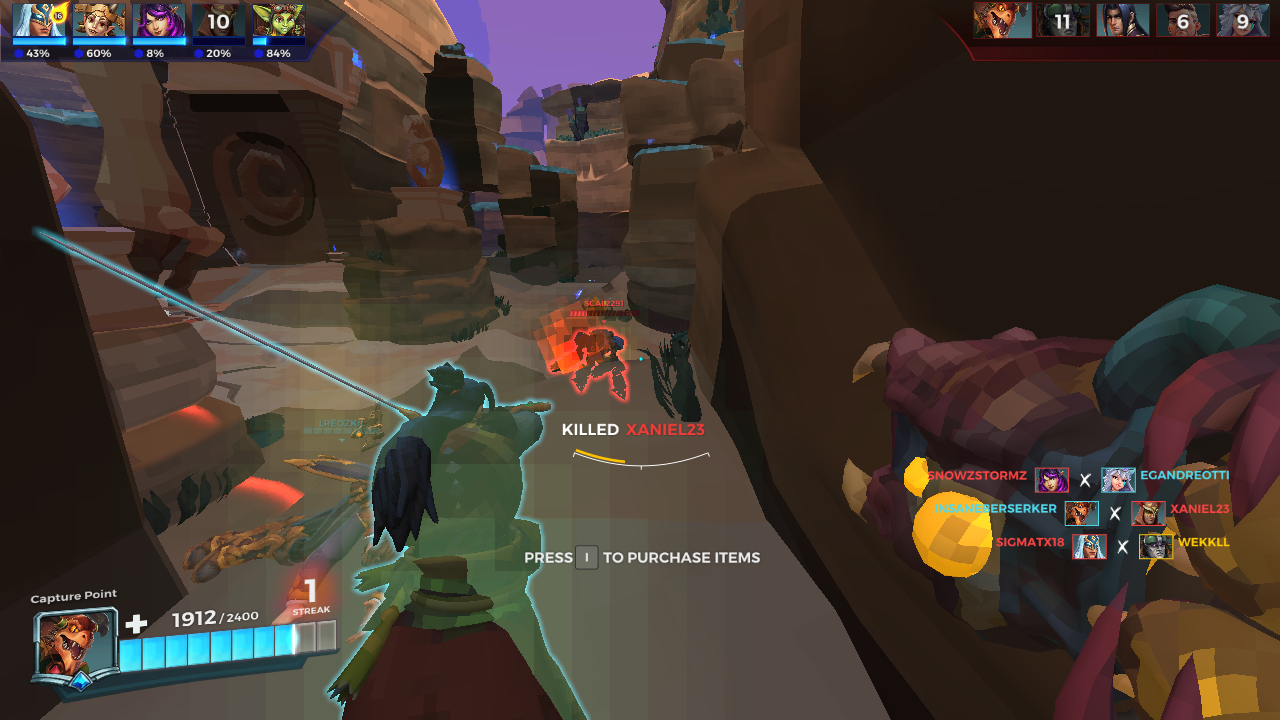model: (567, 322, 632, 406)
